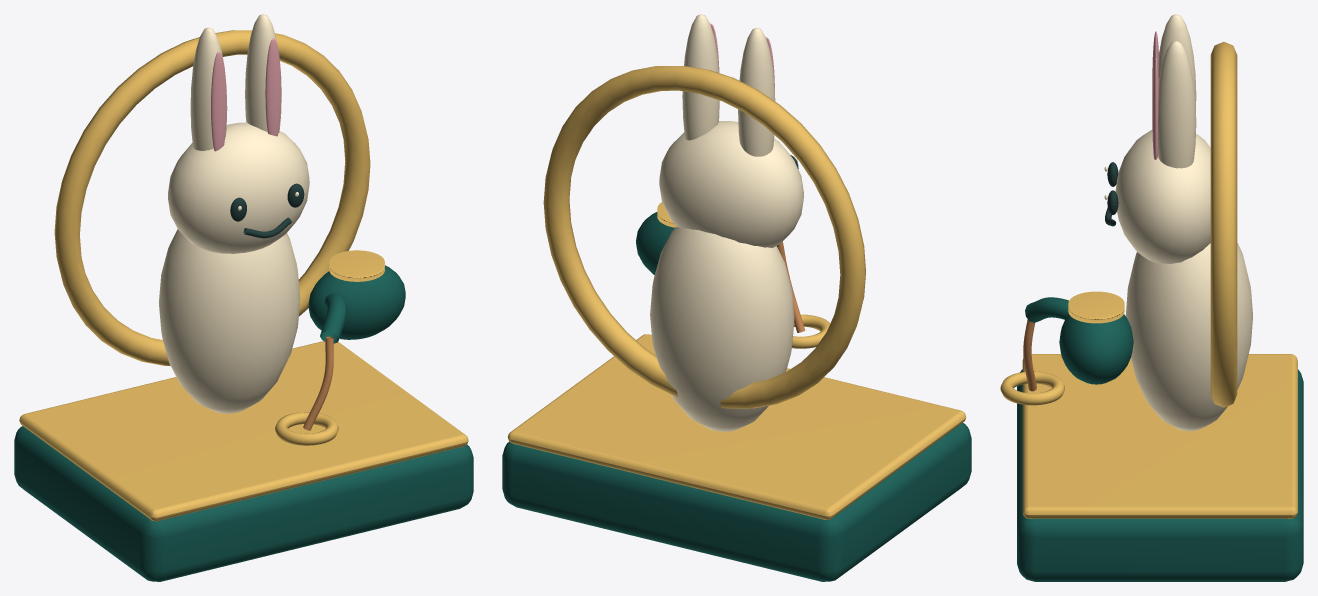
3 views of the same model, side by side, from view 1: azimuth 30°, elevation 25°; view 2: azimuth 150°, elevation 25°; view 3: azimuth 270°, elevation 25° (orthographic). The views are drawn at different scales.
Parts seen in each view (by area): view 1: Brass welt, Tea rabbit, Jade footing, Ear glaze, Bright eye, Tea flowing; view 2: Brass welt, Tea rabbit, Jade footing; view 3: Brass welt, Tea rabbit, Jade footing, Ear glaze, Tea flowing, Bright eye.
Part boxes in pixels (<box>): Brass welt: <box>19,30,468,521</box>; Tea rabbit: <box>158,14,309,413</box>; Jade footing: <box>14,265,473,581</box>; Ear glaze: <box>211,38,281,151</box>; Bright eye: <box>230,183,304,238</box>; Tea flowing: <box>303,336,333,430</box>; Brass welt: <box>507,66,966,519</box>; Tea rabbit: <box>650,14,803,431</box>; Jade footing: <box>502,212,971,581</box>; Brass welt: <box>1000,42,1297,518</box>; Tea rabbit: <box>1104,14,1252,431</box>; Jade footing: <box>1017,297,1303,581</box>; Ear glaze: <box>1152,31,1158,159</box>; Tea flowing: <box>1023,319,1036,391</box>; Bright eye: <box>1105,162,1118,226</box>.
Bounding box in the file's own units: 0.73 × 0.995 × 0.571.
